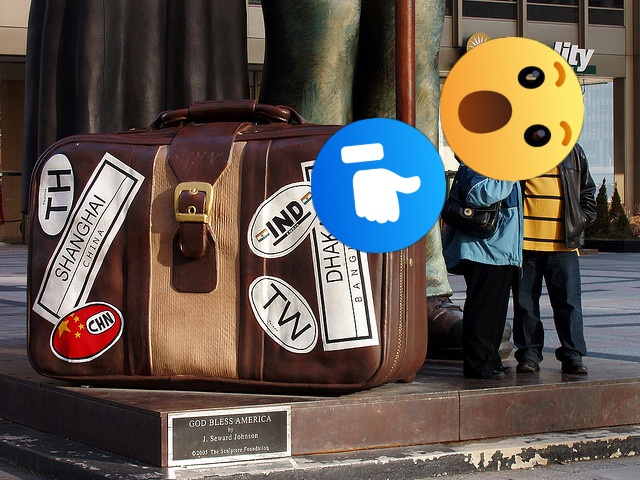like: (311, 118, 446, 253)
wow: (440, 37, 584, 181)
